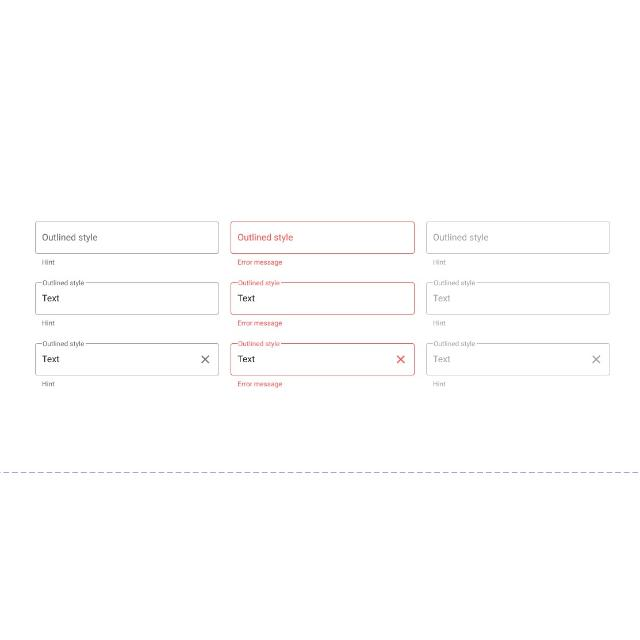VTextField: (34, 340, 220, 388), (34, 220, 220, 266), (34, 280, 220, 326), (230, 280, 416, 326), (425, 280, 611, 326), (425, 342, 611, 388), (229, 342, 415, 388), (230, 220, 414, 266), (426, 220, 610, 266)
